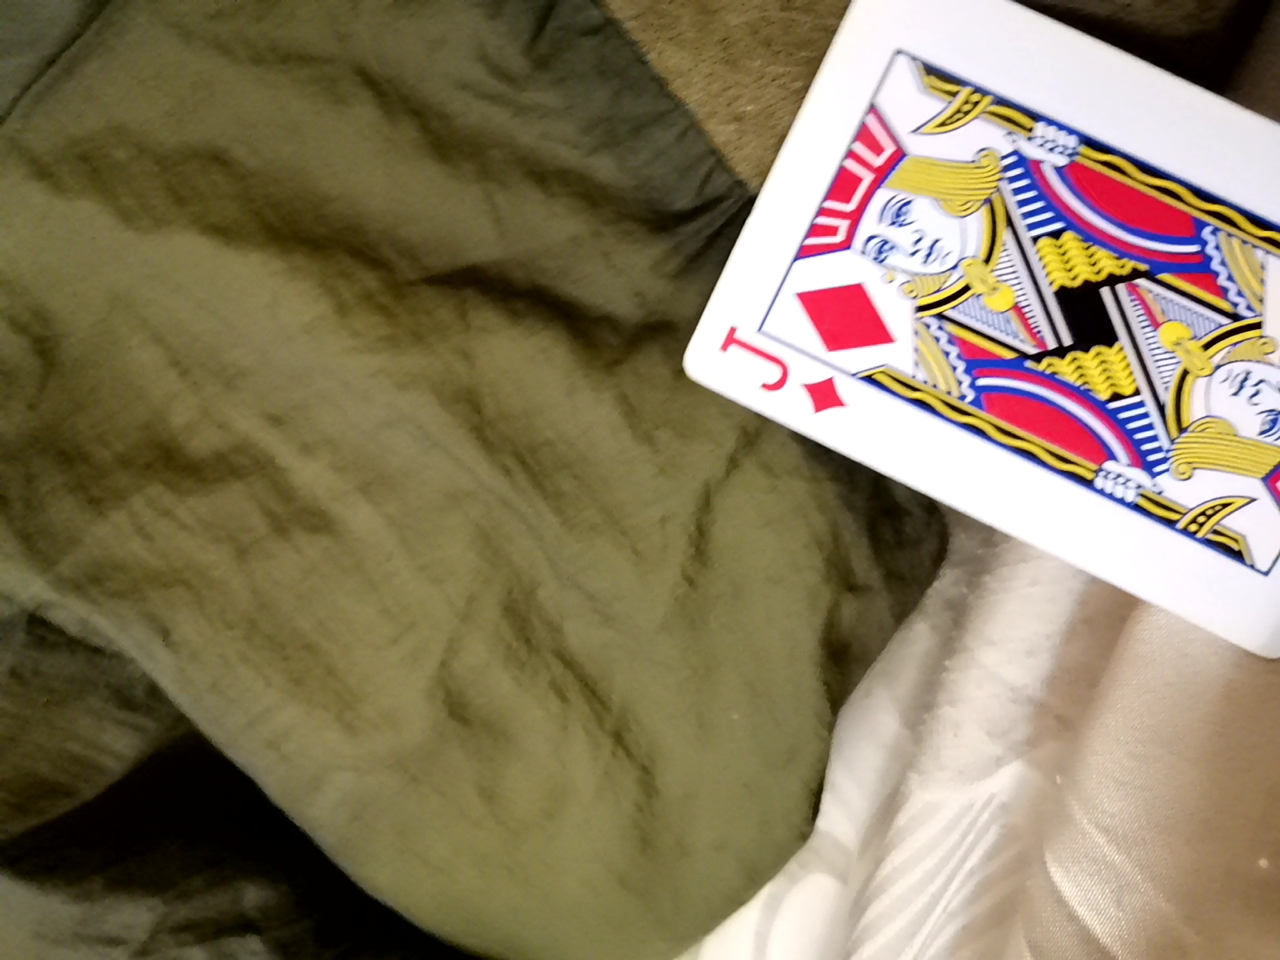fk j: (684, 3, 1273, 749)
